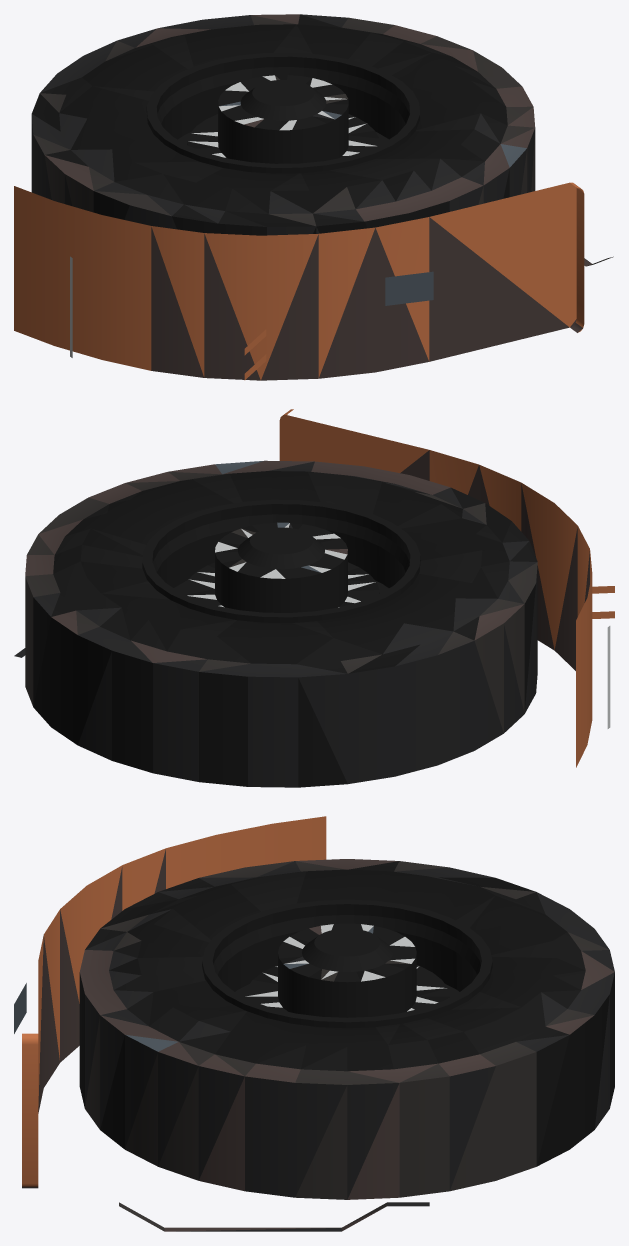
The model's file is front_left.obj.
3 views of the same model, one above another, from view 1: azimuth 30°, elevation 25°; view 2: azimuth 150°, elevation 25°; view 3: azimuth 270°, elevation 25° (orthographic). The views are drawn at different scales.
Bounding box in the file's own units: 0.6559 × 0.2245 × 0.6394.
